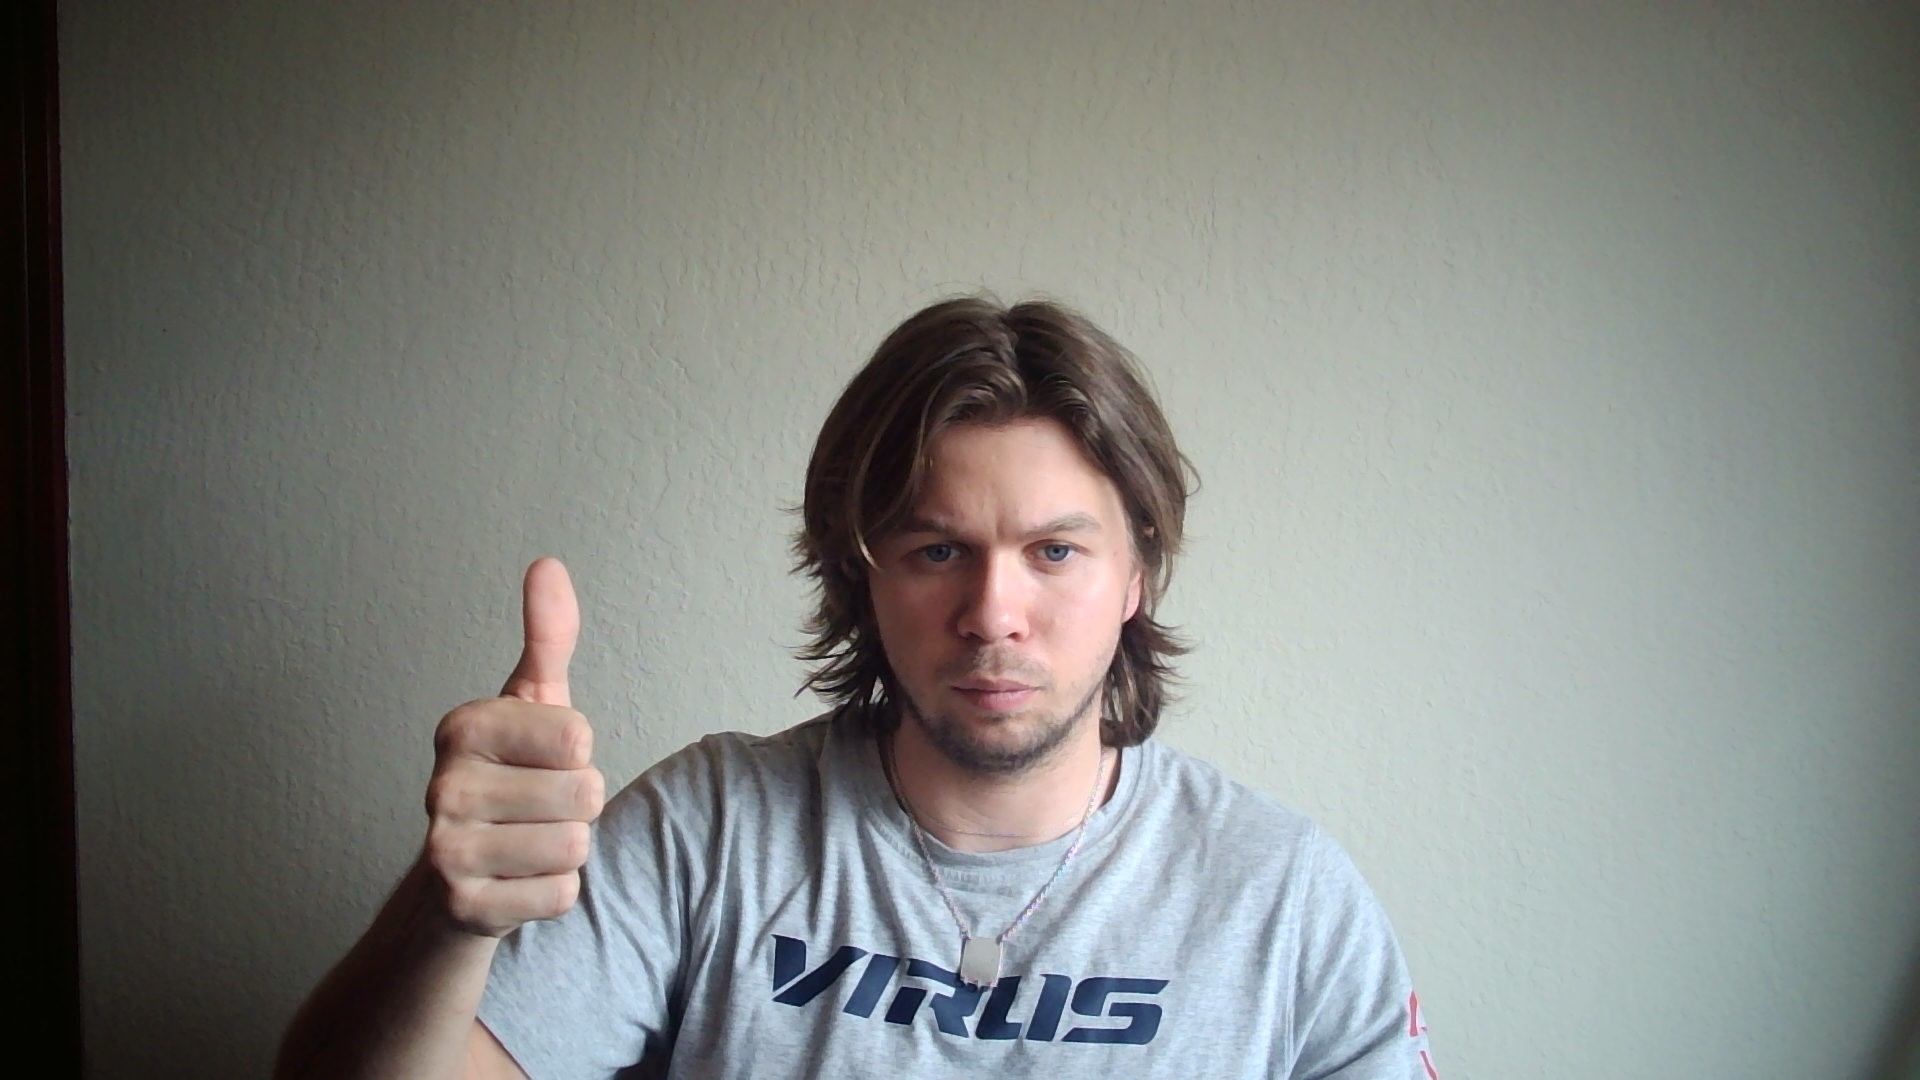good: (425, 556, 605, 938)
